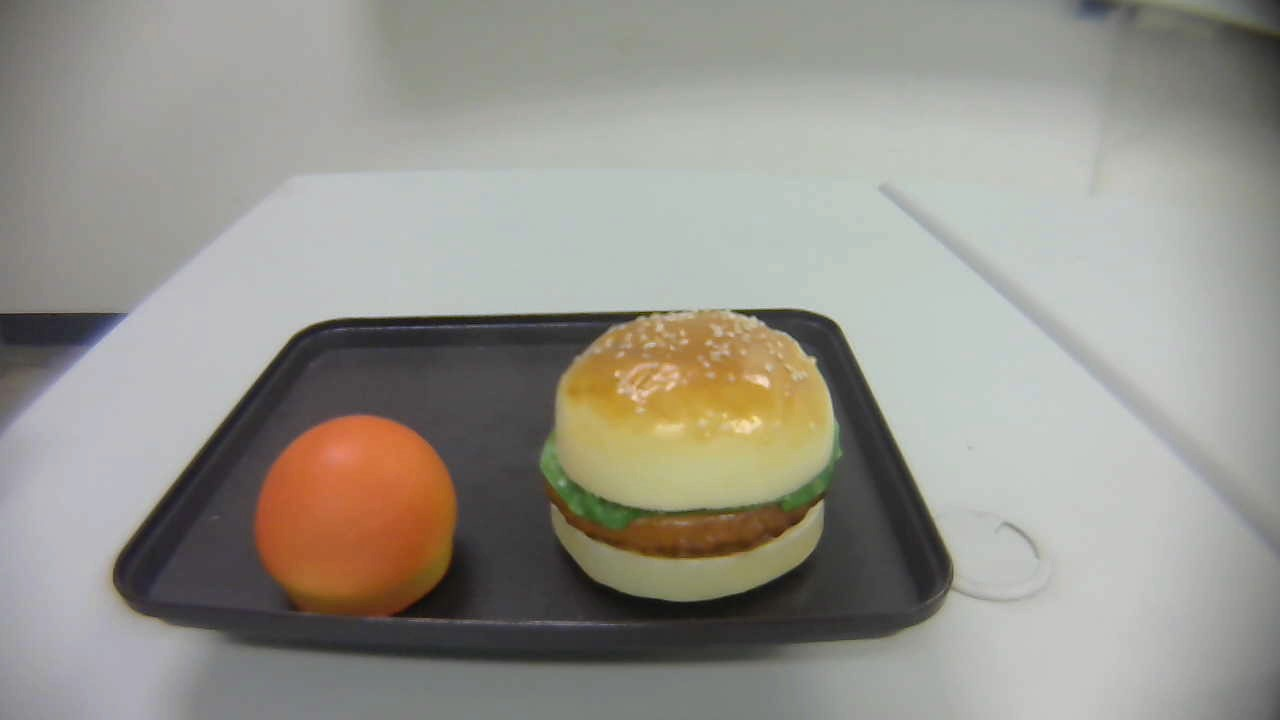bun: (256, 413, 459, 619)
hamburger: (537, 310, 843, 605)
